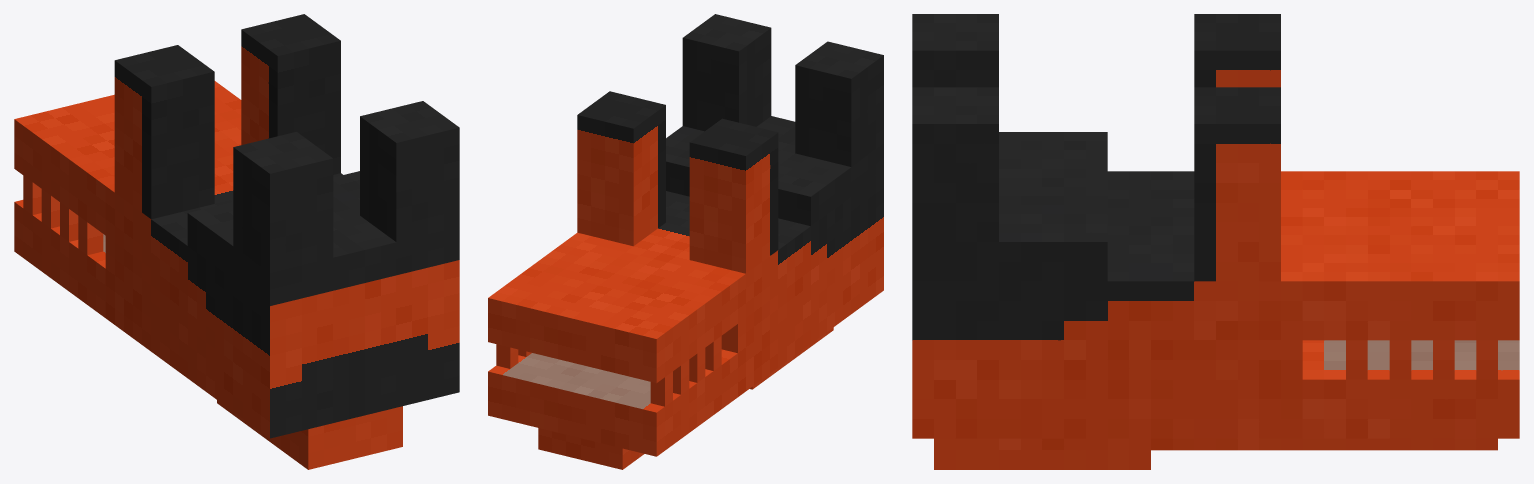
File: grobbler.gltf
3 views of the same model, side by side, from view 1: azimuth 30°, elevation 25°; view 2: azimuth 150°, elevation 25°; view 3: azimuth 270°, elevation 25° (orthographic). The views are drawn at different scales.
Parts seen in each view (by area): view 1: body3, leg3, body, leg1, leg2, leg4, head3, head2, body2, head7, head9, head10 (+1 smaller); view 2: head3, body3, head2, leg3, leg4, leg1, leg2, body, body4, head10, head9, head8 (+2 smaller); view 3: body3, head3, body, head2, leg4, leg2, body2, leg1, leg3, body4, head6, head (+2 smaller).
Boxes of the visible parts, x1,y1,x2,y2 form: body3: (105,155,459,438); leg3: (114,45,214,219); body: (187,171,459,305); leg1: (233,132,333,272); leg2: (360,101,459,242); leg4: (241,14,340,174); head3: (14,81,241,235); head2: (14,200,105,317); body2: (217,400,402,469); head7: (78,216,103,255); head9: (41,189,59,228); head10: (23,175,41,215); head3: (488,238,737,383); body3: (569,173,883,396); head2: (488,349,737,456); leg3: (689,118,778,273); leg4: (577,91,665,246); leg1: (795,41,883,166); leg2: (682,14,771,131); body: (666,116,883,226); body4: (538,428,644,469); head10: (650,371,672,406); head9: (673,360,689,394); head8: (689,348,705,382); body3: (912,171,1302,438); head3: (1302,171,1519,340); body: (912,132,1107,281); head2: (1302,340,1519,438); leg4: (1194,87,1280,281); leg2: (912,87,998,241); body2: (934,438,1150,469); leg1: (912,14,998,87); leg3: (1194,14,1280,87); body4: (1151,438,1497,450); head6: (1389,340,1411,379); head: (1346,340,1367,379).
Bounding box in the file's own units: 0.75 × 1.19 × 1.75.
Materials: 1 (1 with a texture image).
